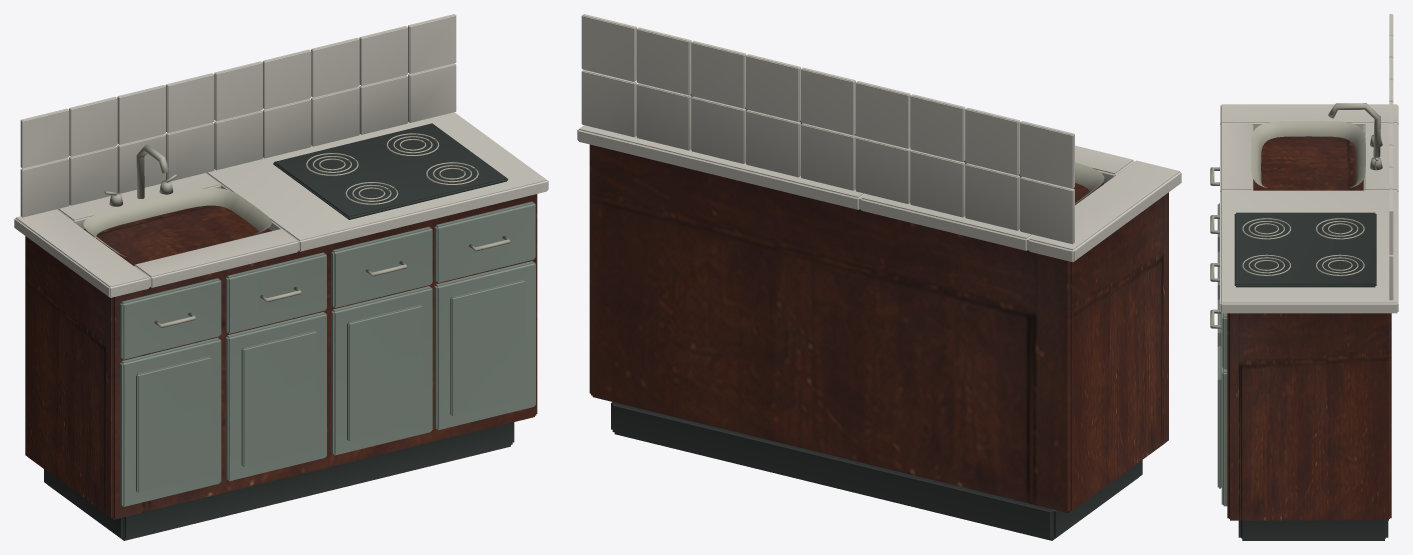
Rendered from apartment-galley.glb.
3 renders of one model, left to right at view 1: azimuth 30°, elevation 25°; view 2: azimuth 150°, elevation 25°; view 3: azimuth 270°, elevation 25°, orthographic. The views are drawn at different scales.
Visible parts, largest first — view 1: Frame; view 2: Frame; view 3: Frame.
Boxes of the visible parts, left/top/right/bottom form: Frame: left=14, top=14, right=548, bottom=540; Frame: left=577, top=14, right=1181, bottom=540; Frame: left=1210, top=14, right=1398, bottom=540.
Size of the model in its own units: 1.6 by 1.28 by 0.6378.
Materials: 5 (1 with a texture image).
